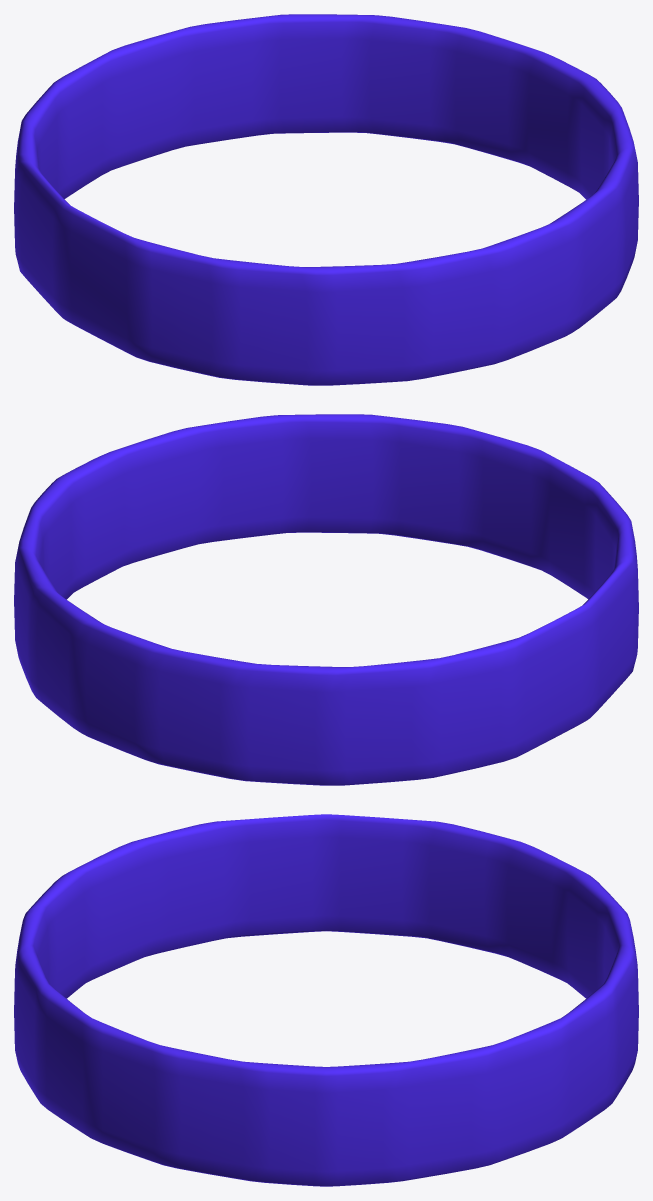
File: rubber.fbx
3 views of the same model, one above another, from view 1: azimuth 30°, elevation 25°; view 2: azimuth 150°, elevation 25°; view 3: azimuth 270°, elevation 25° (orthographic).
Visible parts, largest first — view 1: polySurface30; view 2: polySurface30; view 3: polySurface30.
Part boxes in pixels (x1=…): polySurface30: x1=14, y1=14, x2=638, y2=385; polySurface30: x1=14, y1=414, x2=638, y2=785; polySurface30: x1=14, y1=814, x2=638, y2=1186.
Size of the model in its own units: 4.26 by 0.8799 by 4.26.
